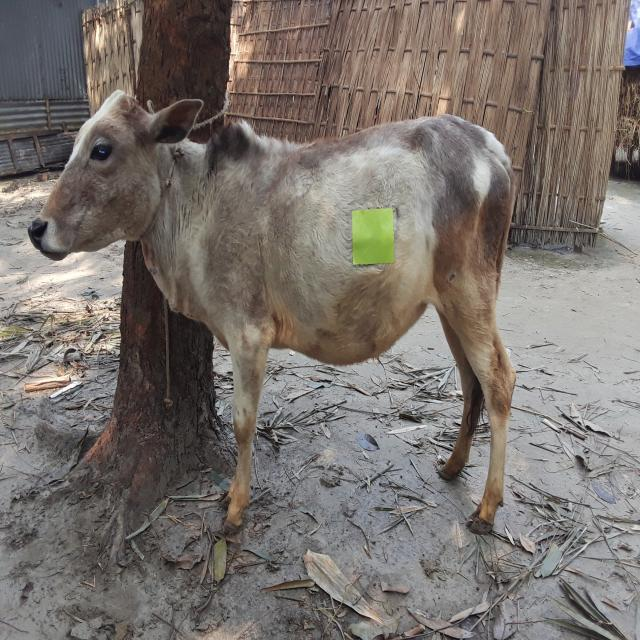badan_sapi: (227, 131, 494, 365)
sapi: (27, 74, 535, 552)
